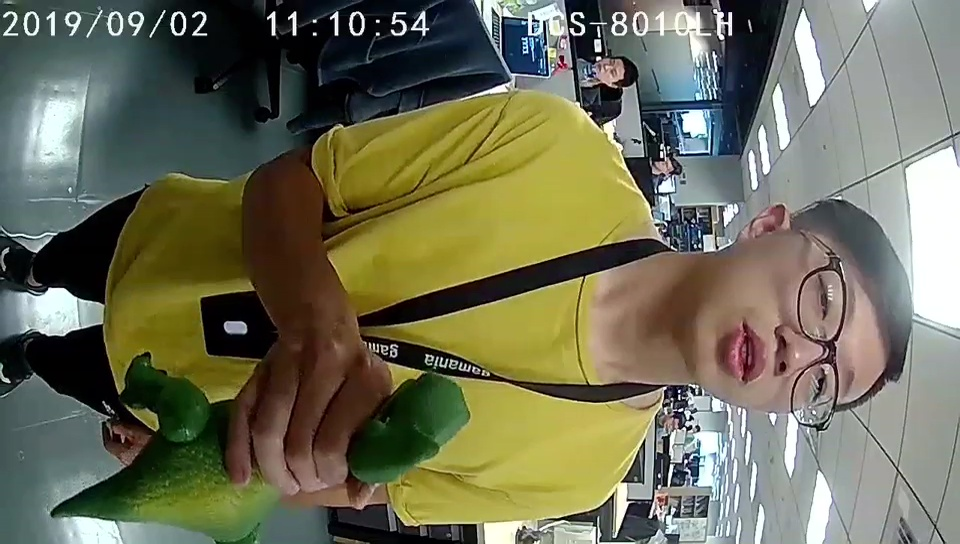rex: (148, 372, 471, 544)
